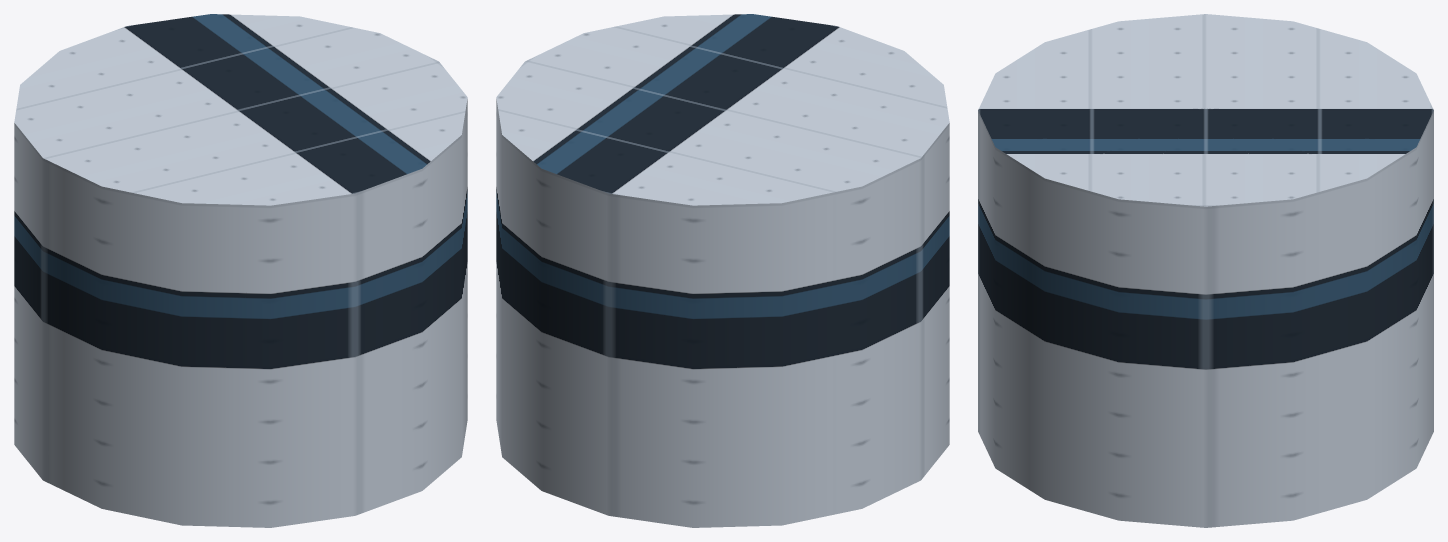
The model's file is cmd-inline_mk2-inline-cockpit.glb.
3 renders of one model, left to right at view 1: azimuth 30°, elevation 25°; view 2: azimuth 150°, elevation 25°; view 3: azimuth 270°, elevation 25°, orthographic.
Visible parts, largest first — view 1: Mk2 Inline Cockpit; view 2: Mk2 Inline Cockpit; view 3: Mk2 Inline Cockpit.
Boxes of the visible parts, x1=… form: Mk2 Inline Cockpit: x1=14, y1=14, x2=467, y2=527; Mk2 Inline Cockpit: x1=496, y1=14, x2=949, y2=527; Mk2 Inline Cockpit: x1=978, y1=14, x2=1433, y2=527.
Size of the model in its own units: 1.8 by 1.4 by 1.8.
Materials: 1 (1 with a texture image).
